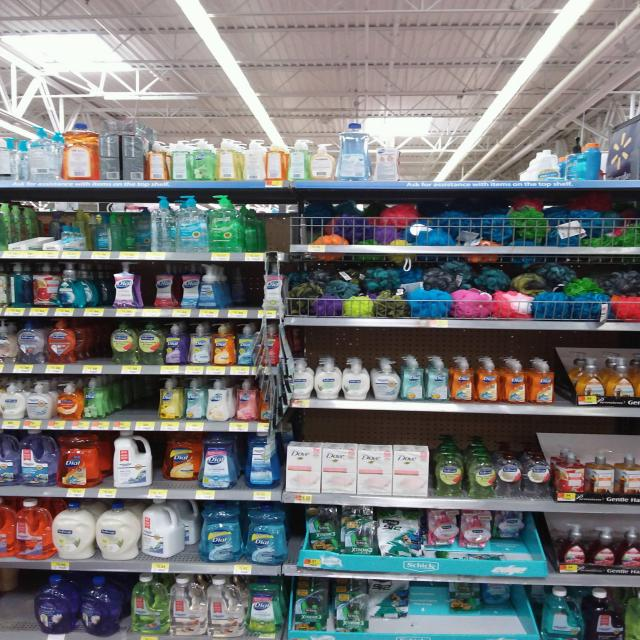void: (408, 147, 518, 179), (1, 594, 35, 635), (412, 581, 443, 613), (132, 385, 158, 418), (260, 215, 287, 246), (93, 330, 115, 365), (239, 273, 259, 311)
